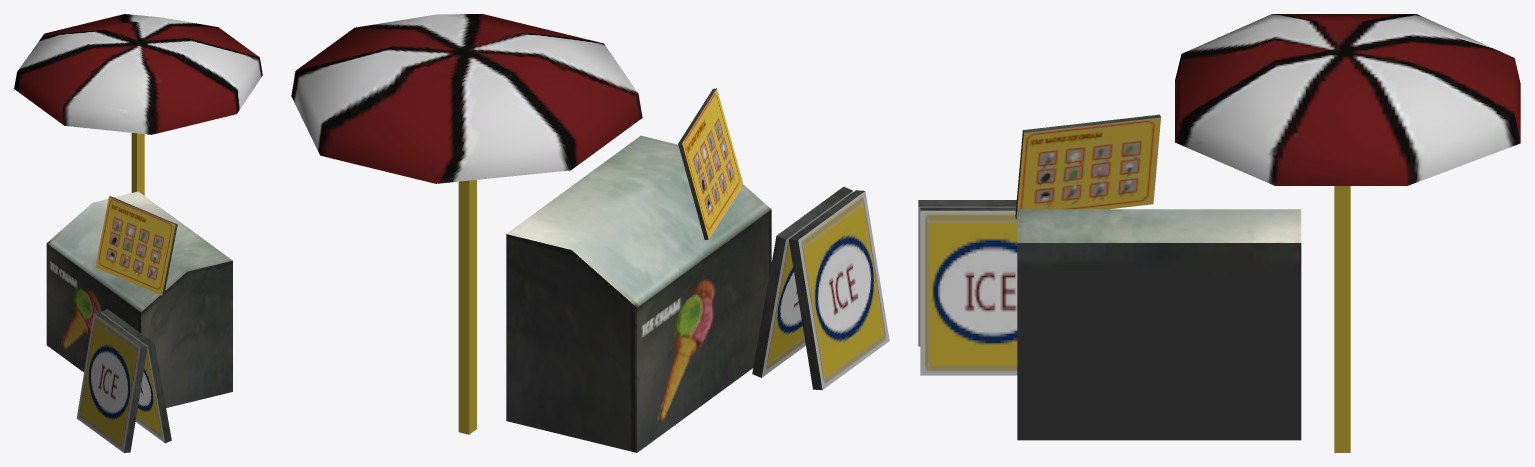
Rendered from 00_03_outside_icecreamstand.dae.
3 renders of one model, left to right at view 1: azimuth 30°, elevation 25°; view 2: azimuth 150°, elevation 25°; view 3: azimuth 270°, elevation 25°, orthographic. The views are drawn at different scales.
Parts seen in each view (by area): view 1: Icecream_stand; view 2: Icecream_stand; view 3: Icecream_stand.
Part boxes in pixels (x1=…): Icecream_stand: x1=14, y1=14, x2=262, y2=452; Icecream_stand: x1=291, y1=14, x2=889, y2=452; Icecream_stand: x1=918, y1=14, x2=1520, y2=452.
Bounding box in the file's own units: 2.86 × 2.85 × 3.84.
